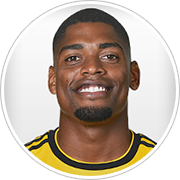smile: (73, 82, 115, 97)
